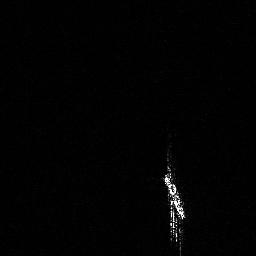ship: (159, 161, 191, 256)
